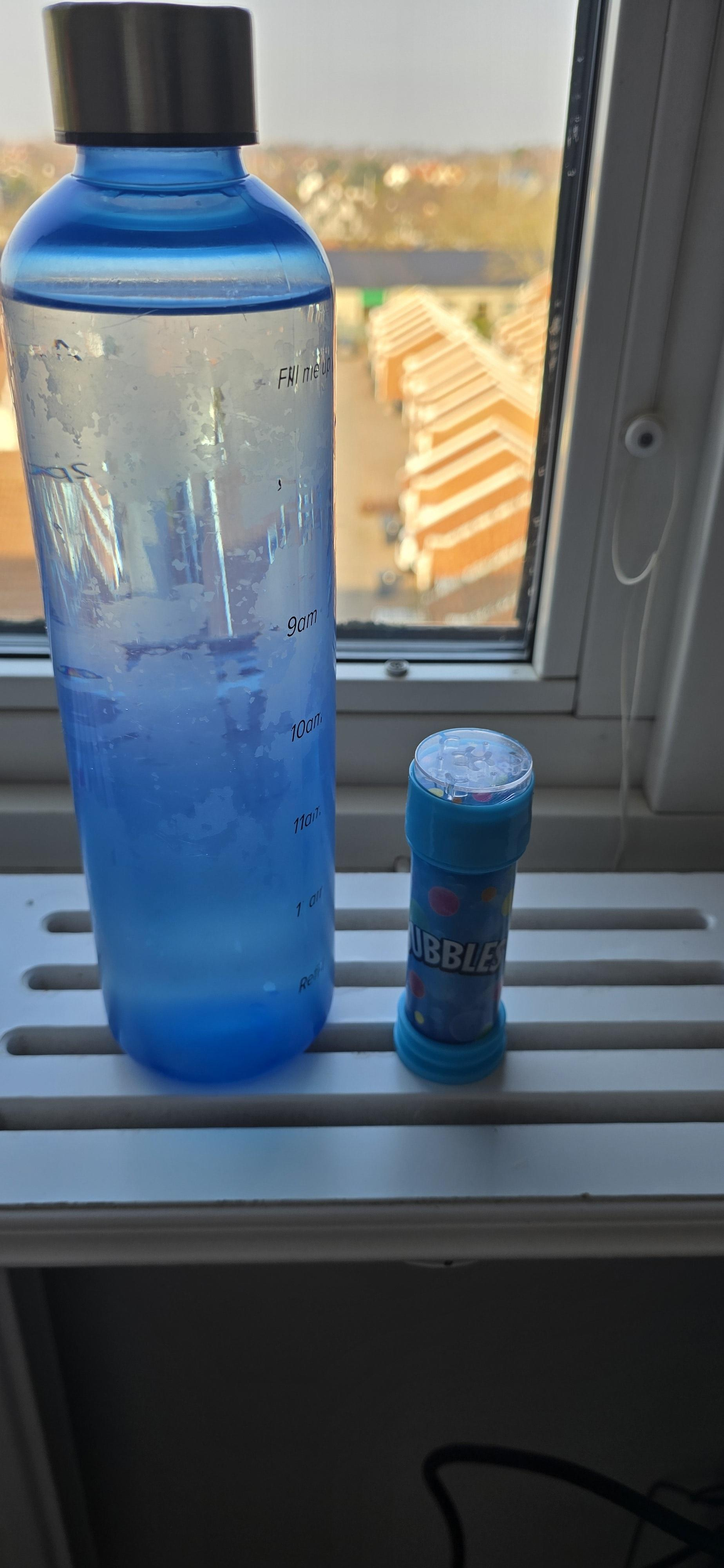bottle: (12, 9, 395, 1126)
